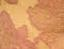plaque psoriasis: (0, 10, 64, 49), (28, 0, 64, 49), (0, 0, 42, 5)
